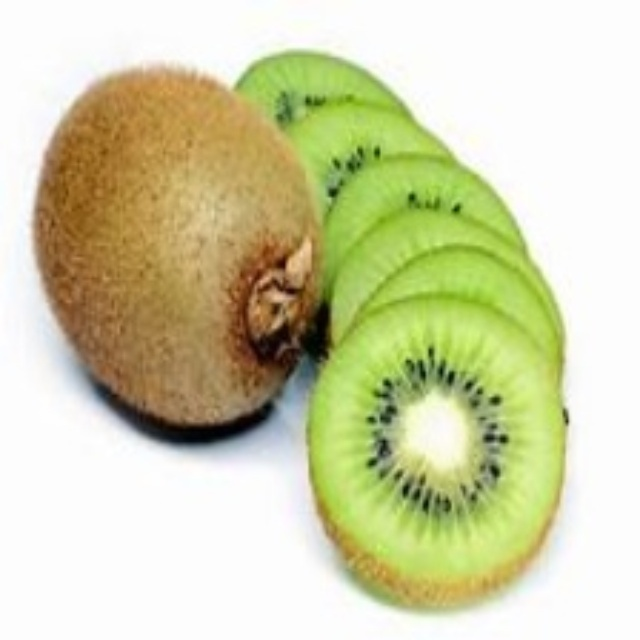kiwi: (295, 60, 570, 612), (33, 67, 326, 448)
